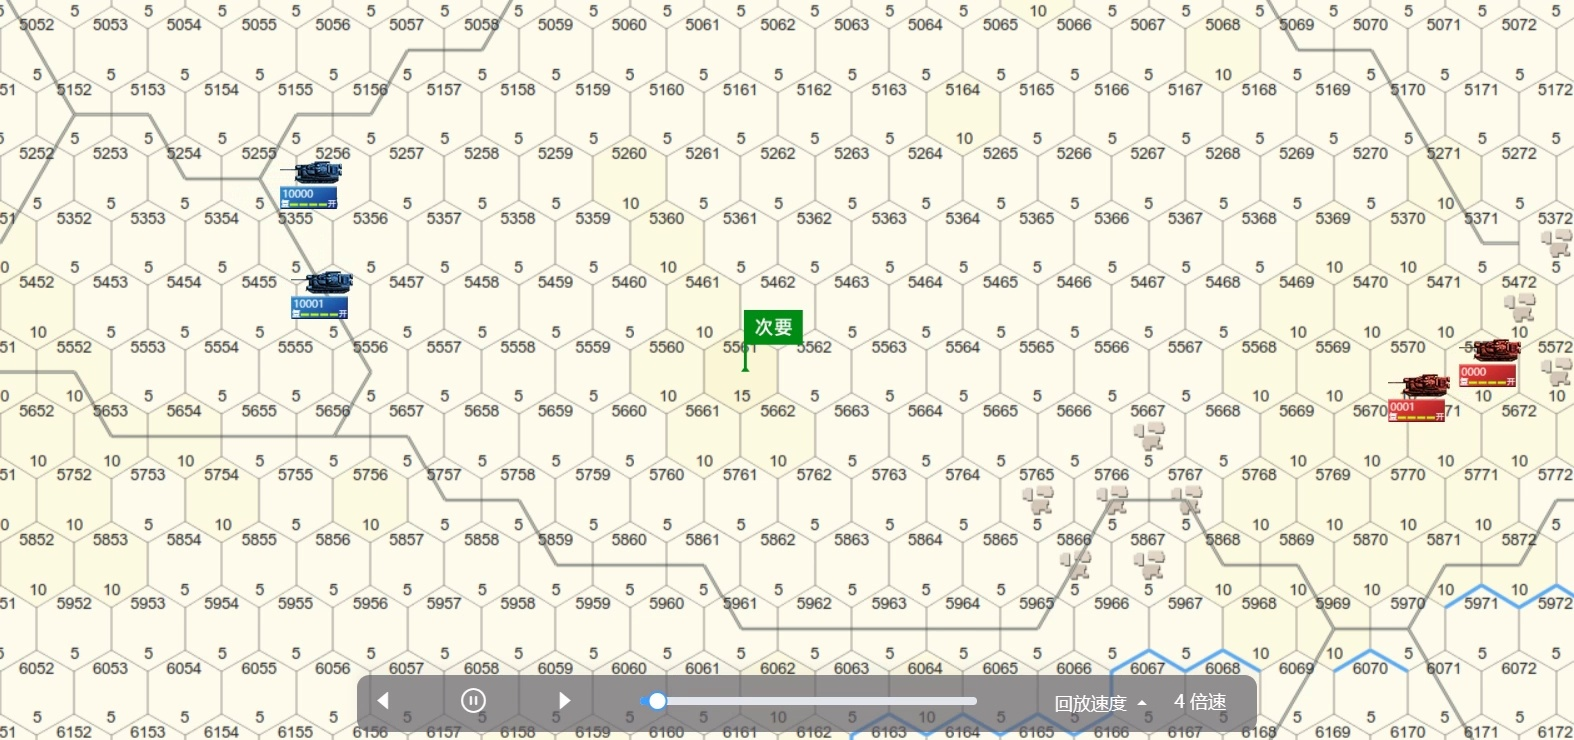blue_tank: (284, 268, 344, 321), (295, 159, 341, 207)
red_tank: (1387, 369, 1452, 424), (1460, 345, 1523, 389)
